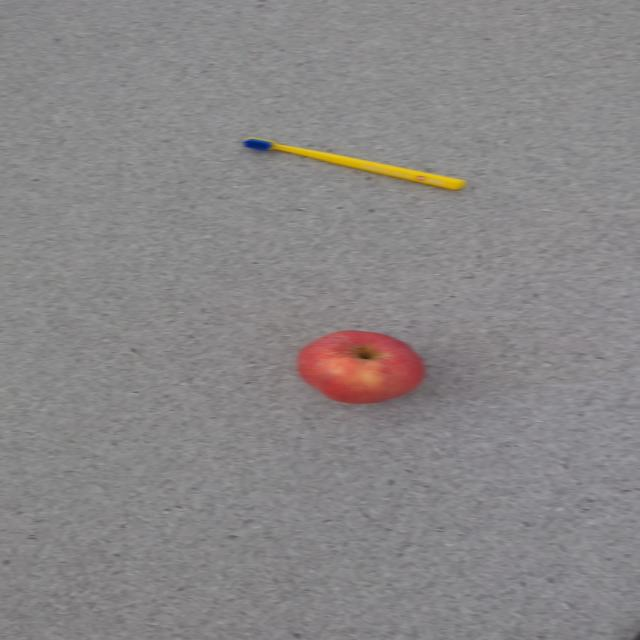apple: (296, 330, 425, 405)
toothbrush: (240, 137, 466, 191)
